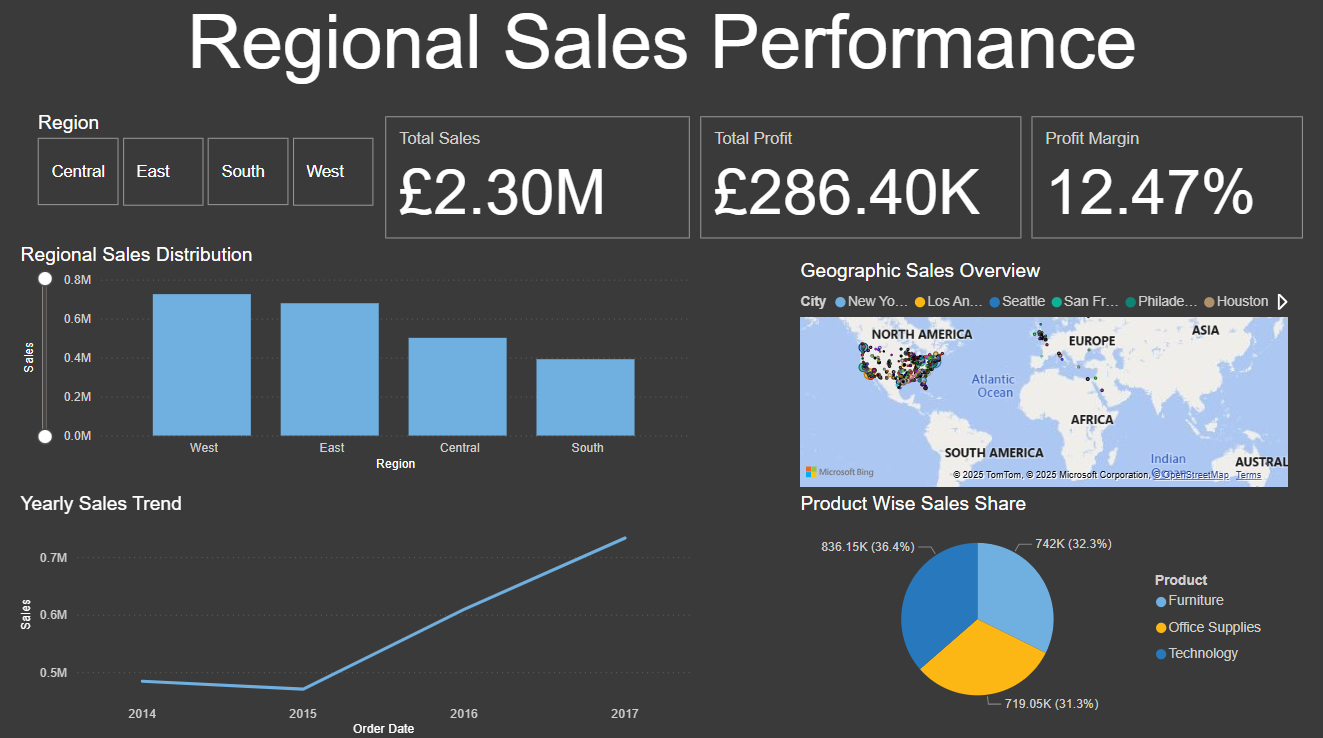

The page's visual inventory and layout, read from the dashboard file:
{"tool":"powerbi","page":{"name":"Sales Performance Dashboard","canvas":[1280,720],"ordinal":0},"visuals":[{"type":"group","id":"g1","title":"Group 1","box":[368,112,896,336],"z":0},{"type":"cardVisual","fields":{"Data":["Sample_ Superstore.Total Sales"]},"box":[368,112,304,128],"z":0,"group":"g2"},{"type":"cardVisual","fields":{"Data":["Sample_ Superstore.Total Profit"]},"box":[672,112,320,128],"z":1000,"group":"g2"},{"type":"columnChart","title":" Regional Sales Distribution","fields":{"Category":["Sample_ Superstore.Region"],"Y":["Sum(Sample_ Superstore.Sales)"]},"box":[16,240,656,224],"z":1000},{"type":"cardVisual","fields":{"Data":["Sample_ Superstore.Profit Margin"]},"box":[992,112,272,128],"z":2000,"group":"g2"},{"type":"pieChart","title":"Product Wise Sales Share","fields":{"Y":["Sum(Sample_ Superstore.Sales)"],"Series":["Sample_ Superstore.Category"]},"box":[768,480,464,224],"z":2000},{"type":"group","id":"g2","title":"Group 4","box":[368,112,896,128],"z":2002,"group":"g1"},{"type":"textbox","box":[0,0,1280,96],"z":3000},{"type":"textbox","box":[400,290.8,254.6,157.2],"z":3000,"group":"g1"},{"type":"lineChart","title":"Yearly Sales Trend","fields":{"Y":["Sum(Sample_ Superstore.Sales)"],"Category":["Sample_ Superstore.Order Date"]},"box":[16,480,656,240],"z":4000},{"type":"map","title":"Geographic Sales Overview","fields":{"Category":["Sample_ Superstore.City"],"Size":["Sum(Sample_ Superstore.Sales)"],"Series":["Sample_ Superstore.City"]},"box":[768,256,480,224],"z":5000},{"type":"advancedSlicerVisual","fields":{"Values":["Sample_ Superstore.Region"]},"box":[32,112,336,96],"z":6000}]}

Visuals, with their boxes in screenshot pixels (x1, y1, x2, y2), scaled from the page's 1280x720 canvas onto the 1323x738 screenshot:
"Group 1" group: Rect(380, 115, 1306, 459)
cardVisual - Sample_ Superstore.Total Sales: Rect(380, 115, 695, 246)
cardVisual - Sample_ Superstore.Total Profit: Rect(695, 115, 1025, 246)
" Regional Sales Distribution" columnChart: Rect(17, 246, 695, 476)
cardVisual - Sample_ Superstore.Profit Margin: Rect(1025, 115, 1306, 246)
"Product Wise Sales Share" pieChart: Rect(794, 492, 1273, 722)
"Group 4" group: Rect(380, 115, 1306, 246)
textbox: Rect(0, 0, 1322, 98)
textbox: Rect(413, 298, 677, 459)
"Yearly Sales Trend" lineChart: Rect(17, 492, 695, 737)
"Geographic Sales Overview" map: Rect(794, 262, 1290, 492)
advancedSlicerVisual - Sample_ Superstore.Region: Rect(33, 115, 380, 213)
